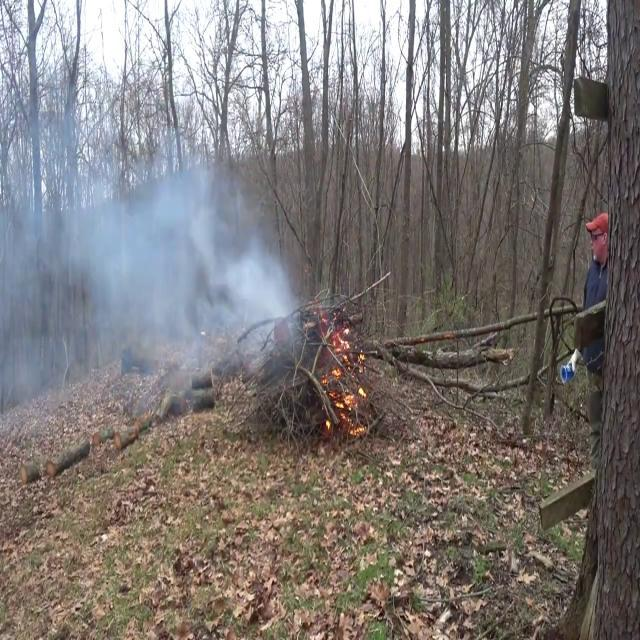Fire: (324, 324, 370, 422)
Smoke: (0, 115, 306, 431)
